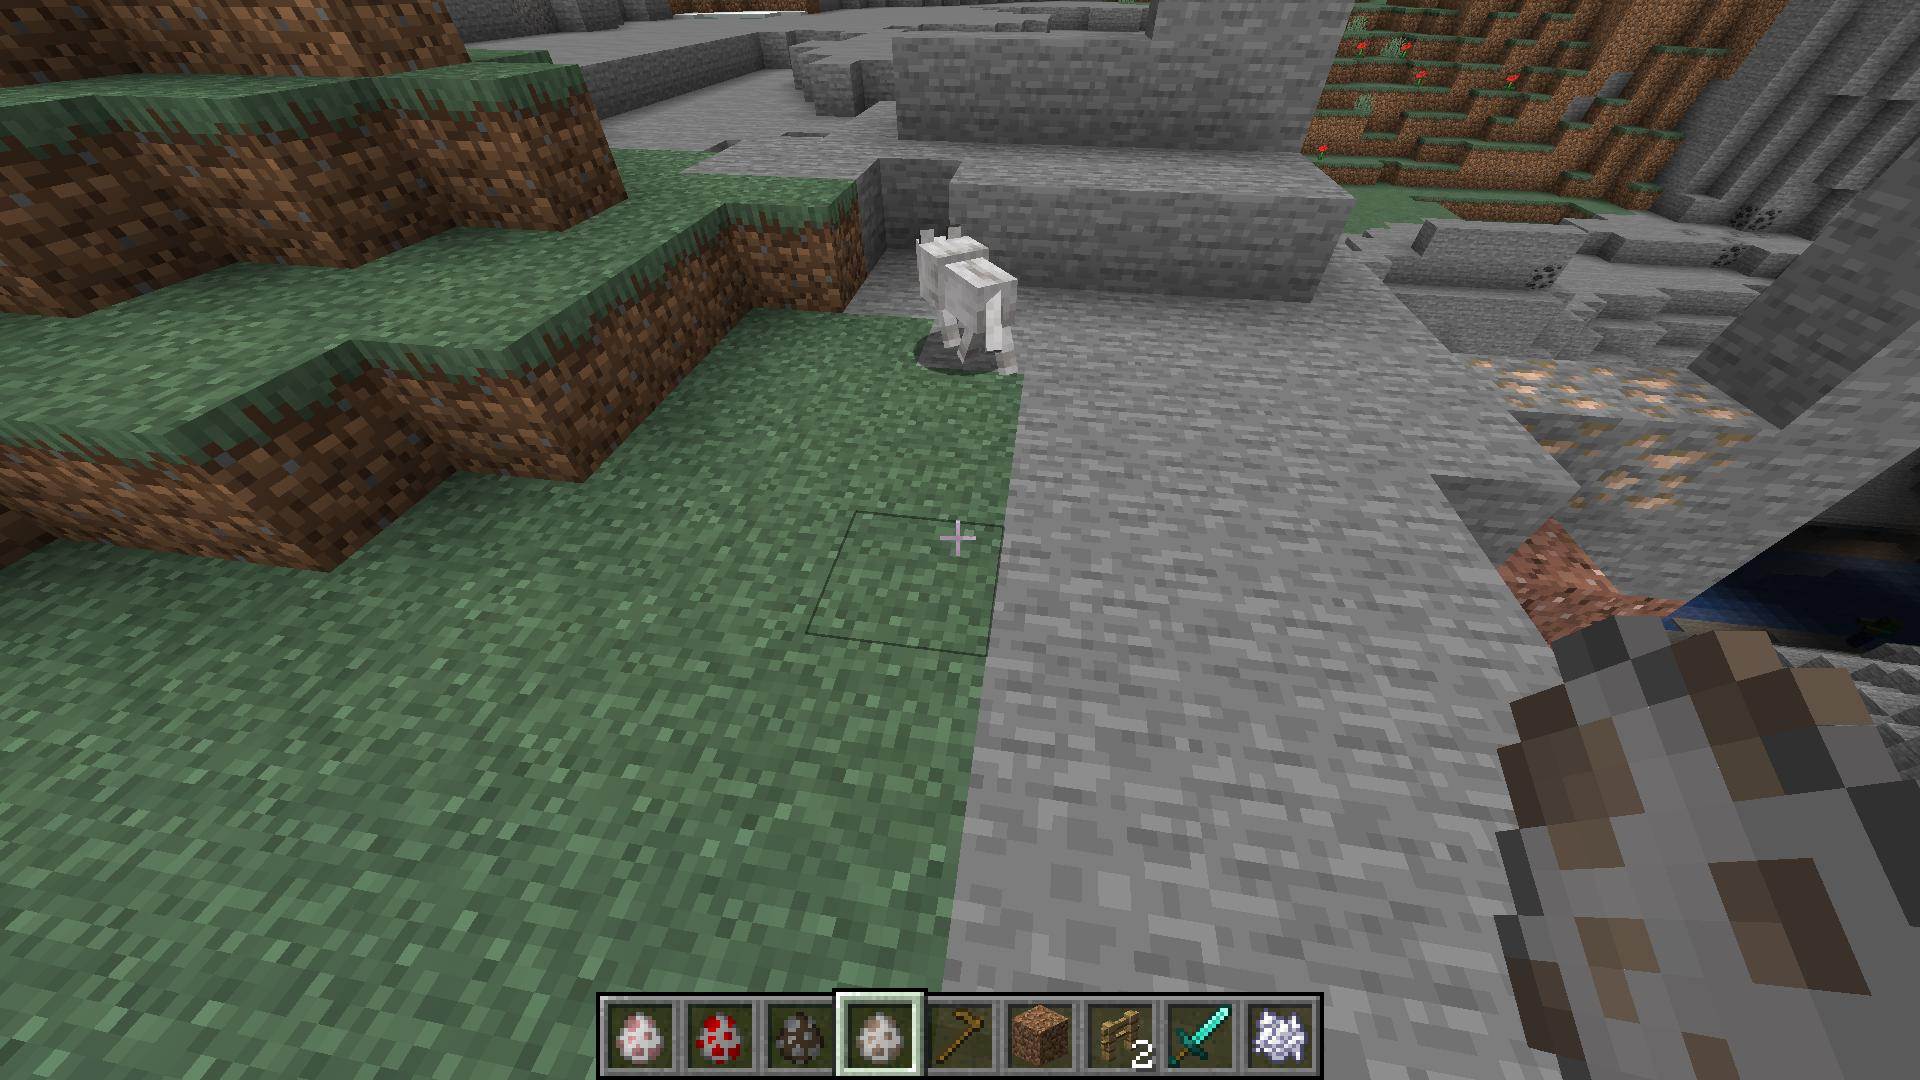wolf: (910, 219, 1025, 382)
